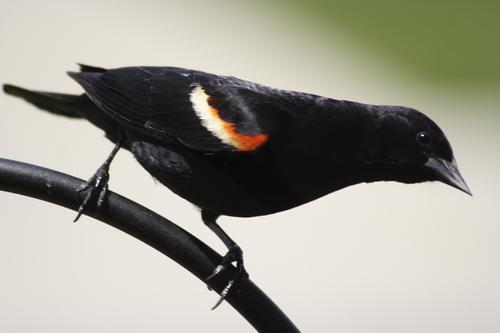010.Red_winged_Blackbird: (2, 54, 478, 310)
